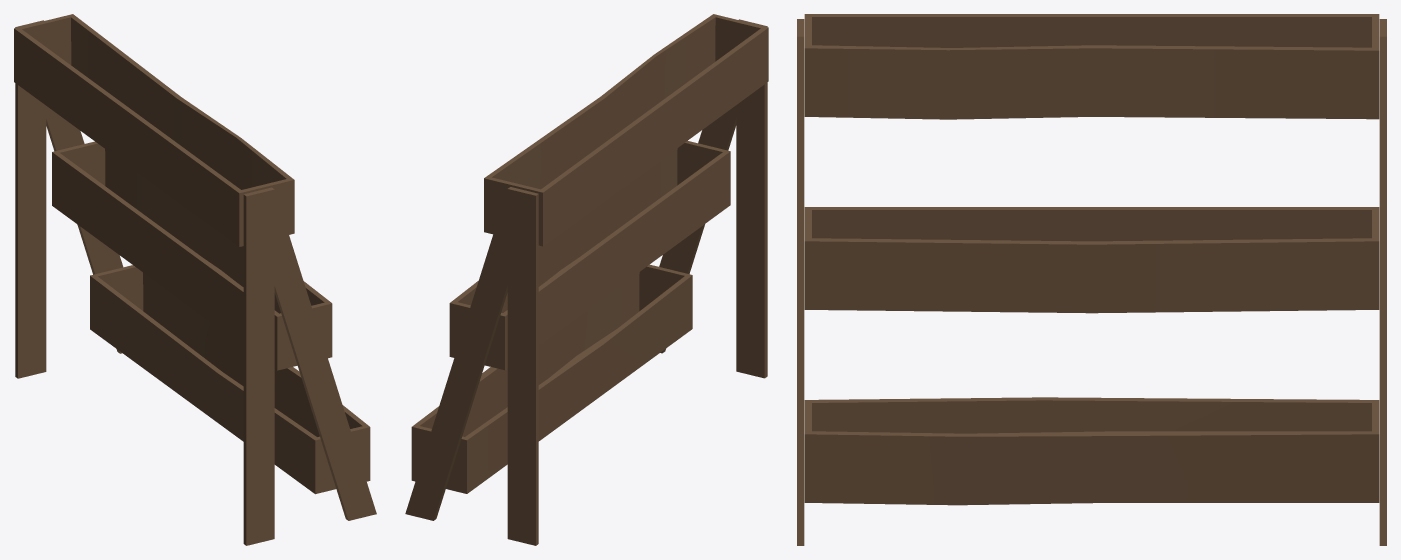
File: herbs_shelf.FBX
3 views of the same model, side by side, from view 1: azimuth 30°, elevation 25°; view 2: azimuth 150°, elevation 25°; view 3: azimuth 270°, elevation 25° (orthographic). The views are drawn at different scales.
Visible parts, largest first — view 1: Box006; view 2: Box006; view 3: Box006.
Part boxes in pixels (x1,y1,x2,y2): Box006: (14, 14, 376, 545); Box006: (405, 14, 768, 545); Box006: (797, 14, 1386, 545).
Bounding box in the file's own units: 61.54 × 153 × 183.
